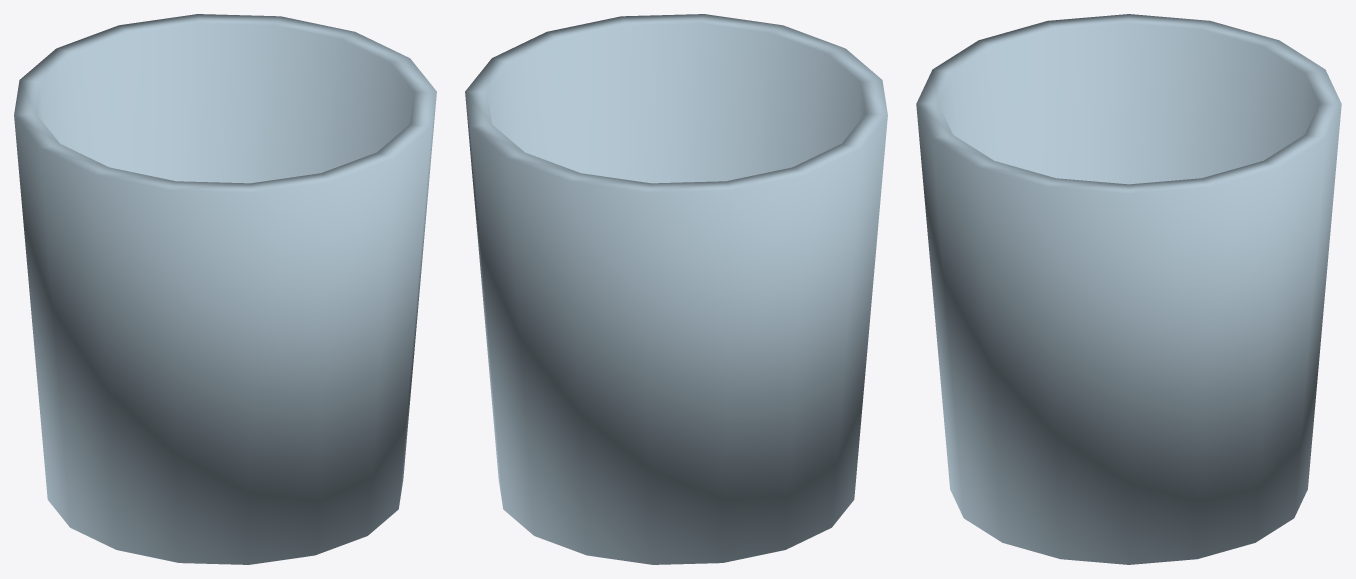
The model's file is Prop_trashcan.fbx.
3 renders of one model, left to right at view 1: azimuth 30°, elevation 25°; view 2: azimuth 150°, elevation 25°; view 3: azimuth 270°, elevation 25°, orthographic.
Visible parts, largest first — view 1: Prop_Trashcan; view 2: Prop_Trashcan; view 3: Prop_Trashcan.
Part boxes in pixels (bbox=[...]): Prop_Trashcan: bbox=[14, 14, 436, 564]; Prop_Trashcan: bbox=[465, 14, 887, 564]; Prop_Trashcan: bbox=[916, 14, 1341, 564].
Bounding box in the file's own units: 0.5525 × 0.5523 × 0.5525.
